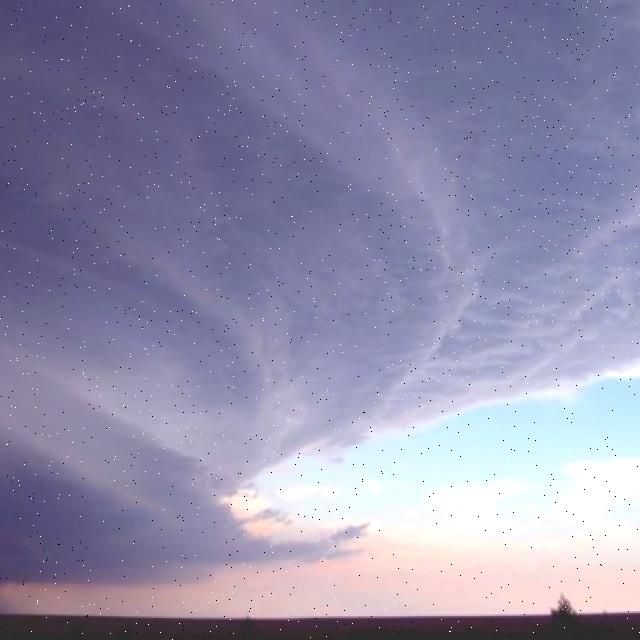Cb: (1, 1, 515, 605)
